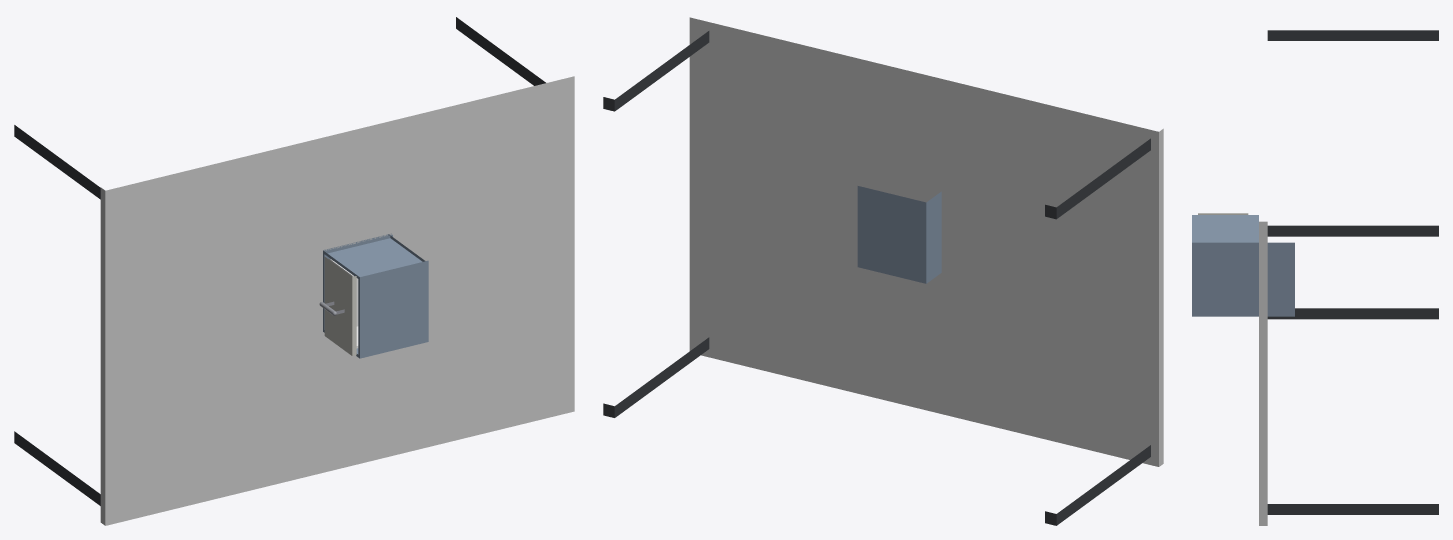
Rendered from t2_d64c3dfbf0.glb.
The picture shows the model from 3 angles, left to right: view 1: azimuth 30°, elevation 25°; view 2: azimuth 150°, elevation 25°; view 3: azimuth 270°, elevation 25°; orthographic projection. The views are drawn at different scales.
Parts seen in each view (by area): view 1: s0, s1, s2; view 2: s0, s1; view 3: s0, s1.
Boxes of the visible parts, x1,y1,x2,y2 form: s0: (14, 17, 574, 525); s1: (323, 233, 428, 358); s2: (319, 257, 358, 356); s0: (603, 17, 1163, 525); s1: (857, 186, 941, 283); s0: (1259, 30, 1438, 525); s1: (1192, 215, 1294, 316).
Bounding box in the file's own units: 2.05 × 1.4 × 1.03.
